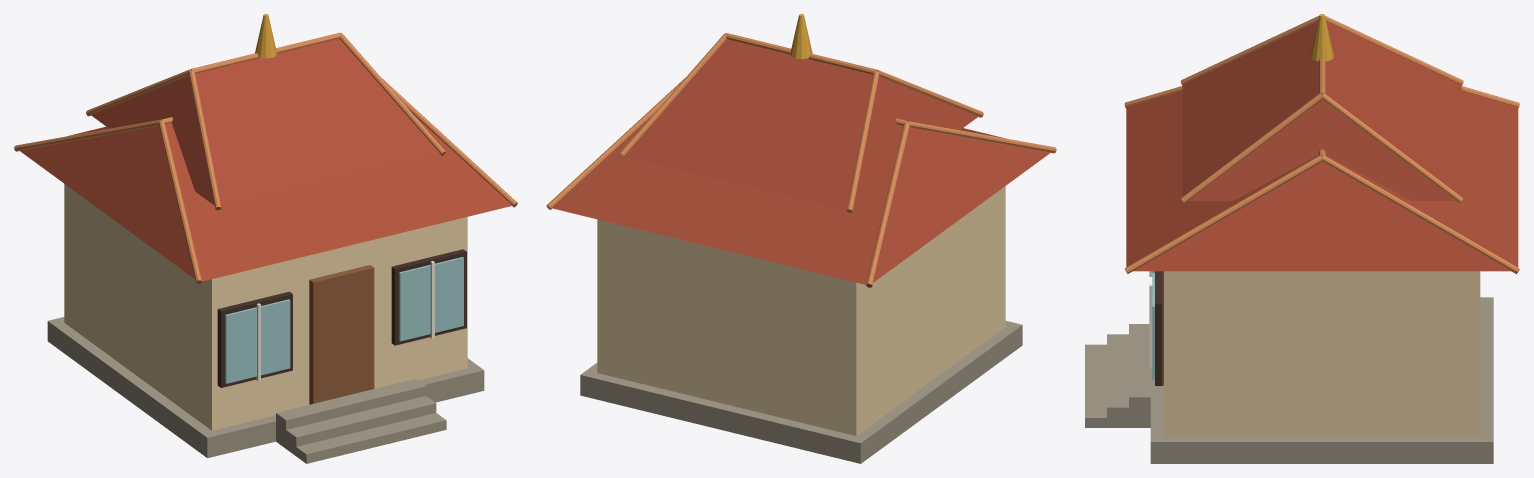
Rendered from 006_tiled_shrine.glb.
The picture shows the model from 3 angles, left to right: view 1: azimuth 30°, elevation 25°; view 2: azimuth 150°, elevation 25°; view 3: azimuth 270°, elevation 25°; orthographic projection. The views are drawn at different scales.
Visible parts, largest first — view 1: Tiled shrine; view 2: Tiled shrine; view 3: Tiled shrine.
Boxes of the visible parts, bbox=[...] form: Tiled shrine: bbox=[14, 14, 517, 463]; Tiled shrine: bbox=[546, 14, 1056, 463]; Tiled shrine: bbox=[1085, 14, 1519, 463].
Bounding box in the file's own units: 5.28 × 5.51 × 5.77.
